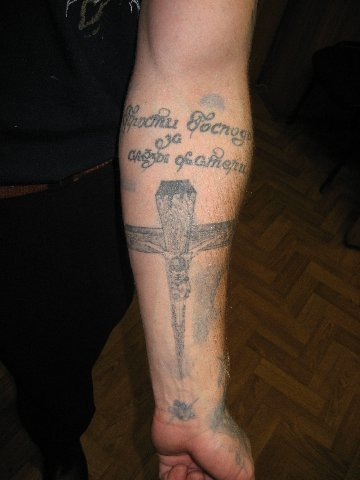tatu9_krest: (121, 183, 229, 363)
